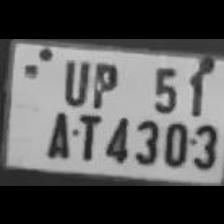0: (158, 116, 188, 166)
1: (182, 60, 218, 116)
3: (189, 119, 219, 170), (130, 114, 159, 164)
4: (100, 110, 130, 162)
5: (148, 61, 180, 111)
A: (41, 104, 73, 160)
P: (88, 56, 122, 106)
T: (70, 108, 100, 160)
U: (59, 54, 91, 104)
